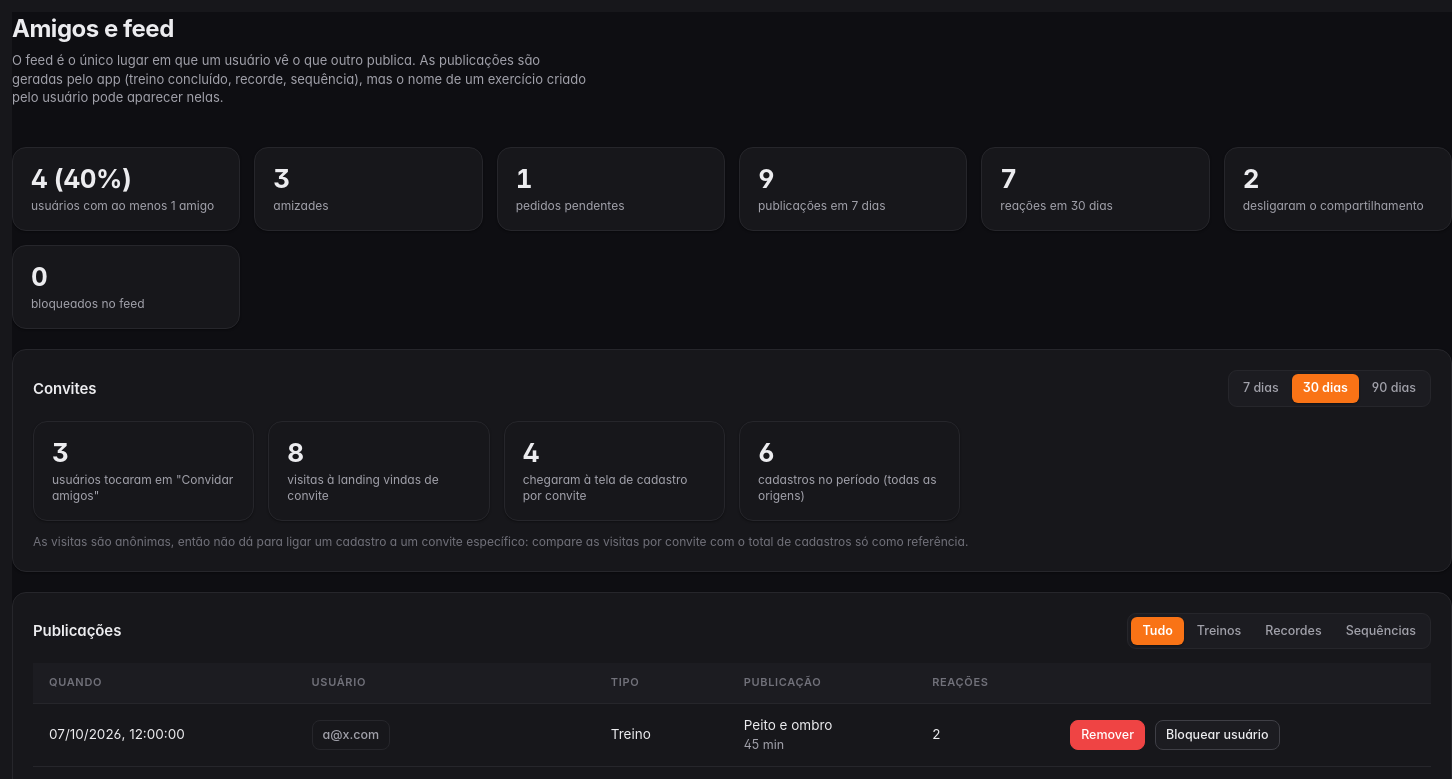
SocialFeed › remove uma publicação após confirmar
Check: the text "Peito e ombro" is shown, box x1=744 y1=717 x2=832 y2=733
Click the button "Remover" in the row of "07/10/2026, 12:00:00" at (1108, 735), box x1=1070 y1=720 x2=1145 y2=750
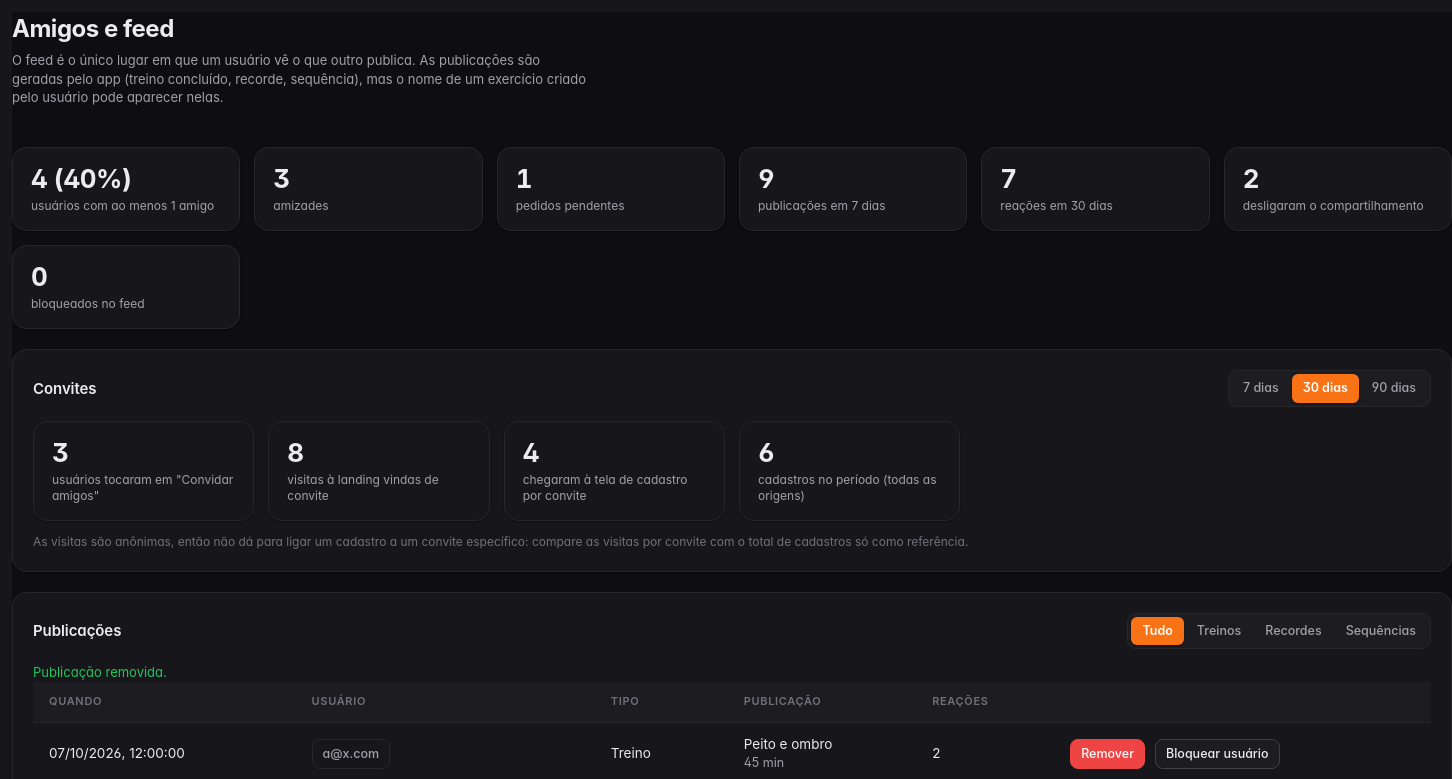
Check: the text "Publicação removida." is shown, box x1=33 y1=664 x2=167 y2=680
